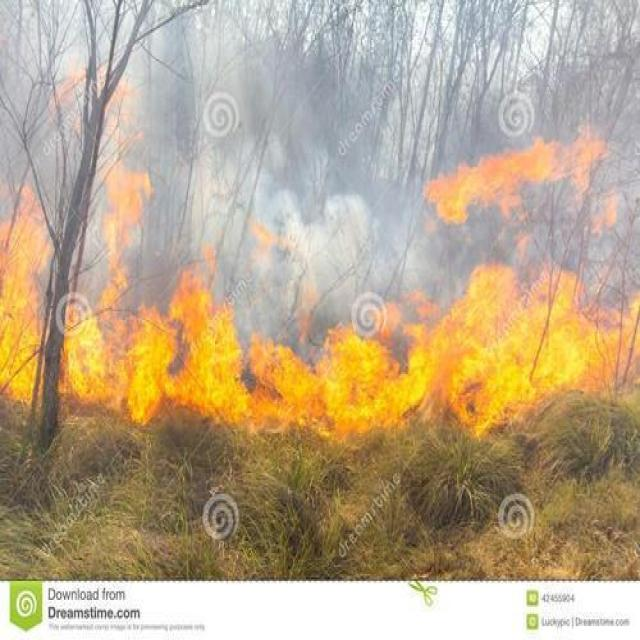fire: (2, 83, 633, 439)
